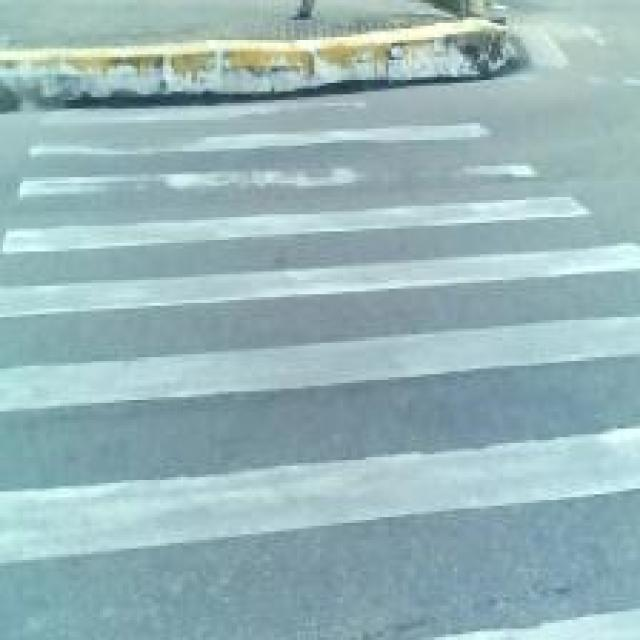zebra: (38, 100, 628, 640)
